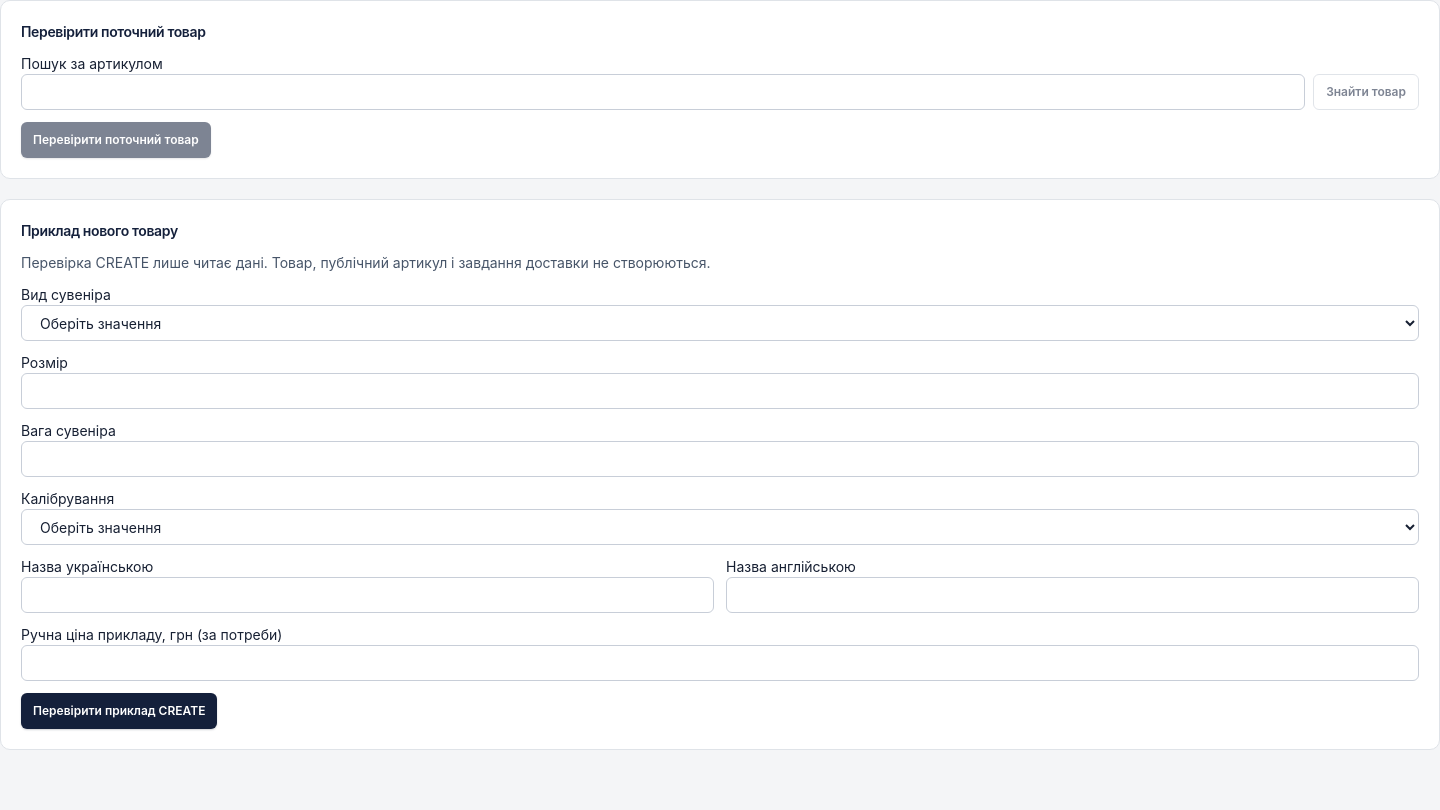
Test: keeps a blocked example scoped to that product and cannot save it for publication
Select "Фігурка" in the dropdown labelled "Вид сувеніра". click: (720, 323)
box: [21,305,1419,341]
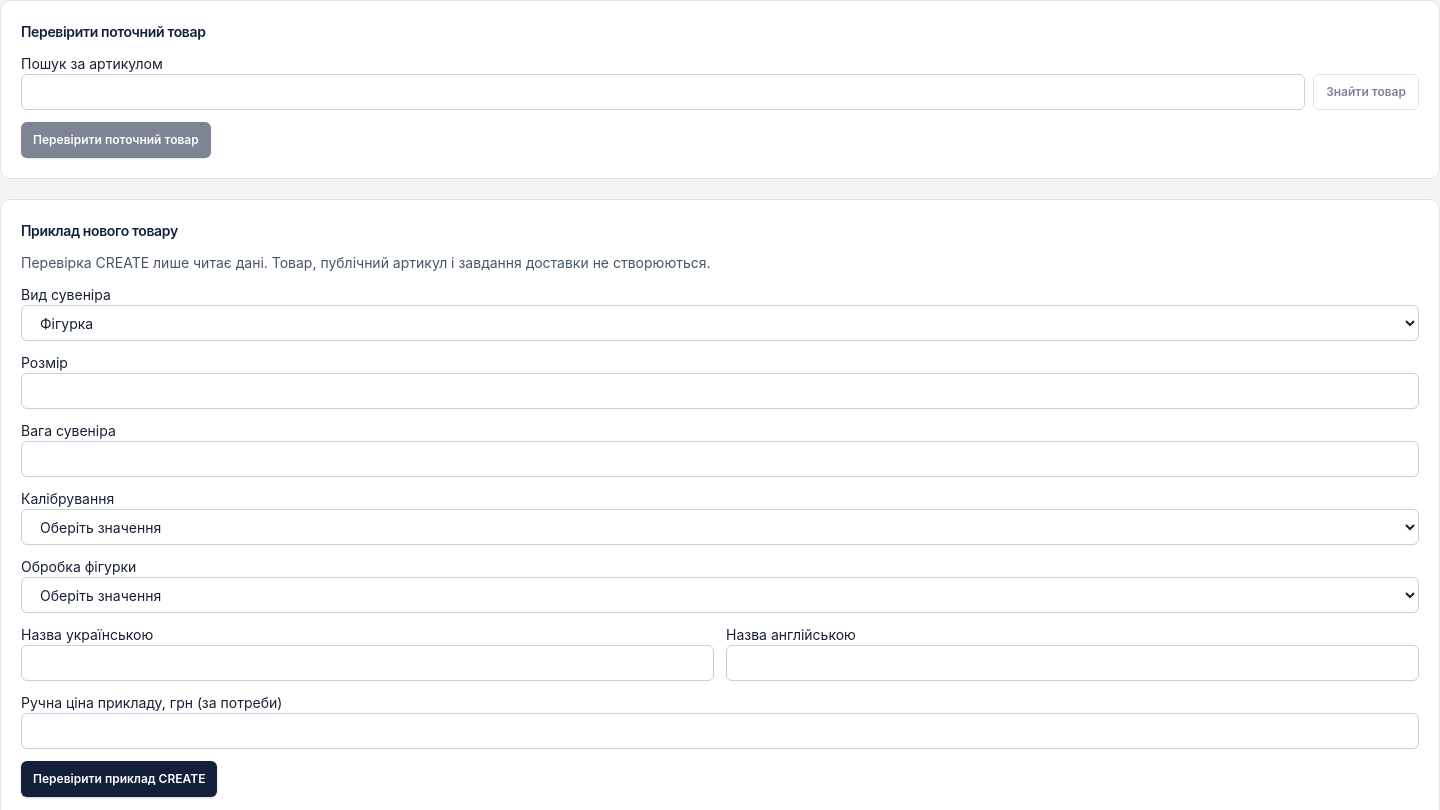
Type "3/2" into the field labelled "Розмір". click: (720, 391)
box: [21,373,1419,409]
Type "12.5" into the field labelled "Вага сувеніра". click: (720, 459)
box: [21,441,1419,477]
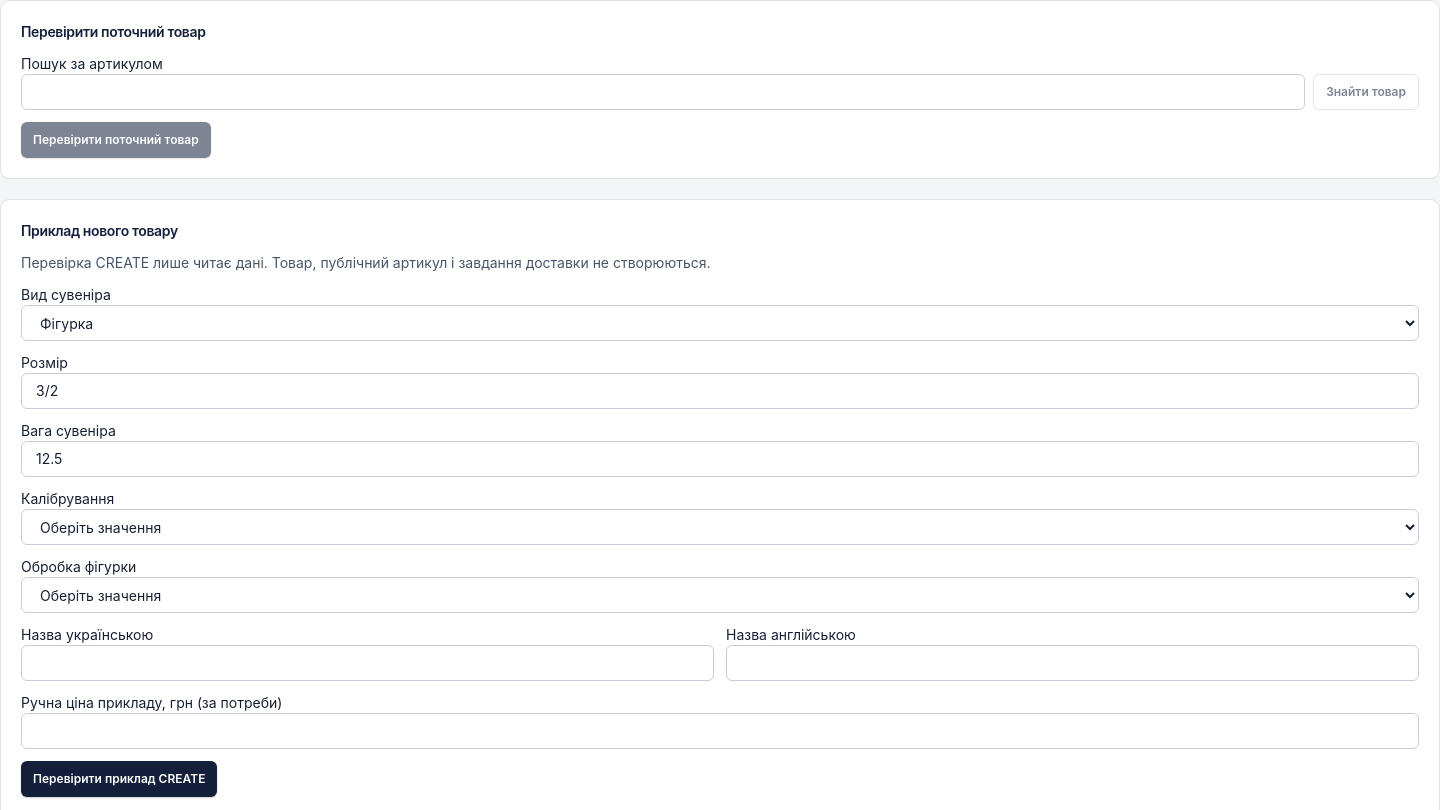
Select "Напів" in the dropdown labelled "Калібрування". click: (720, 527)
box: [21,509,1419,545]
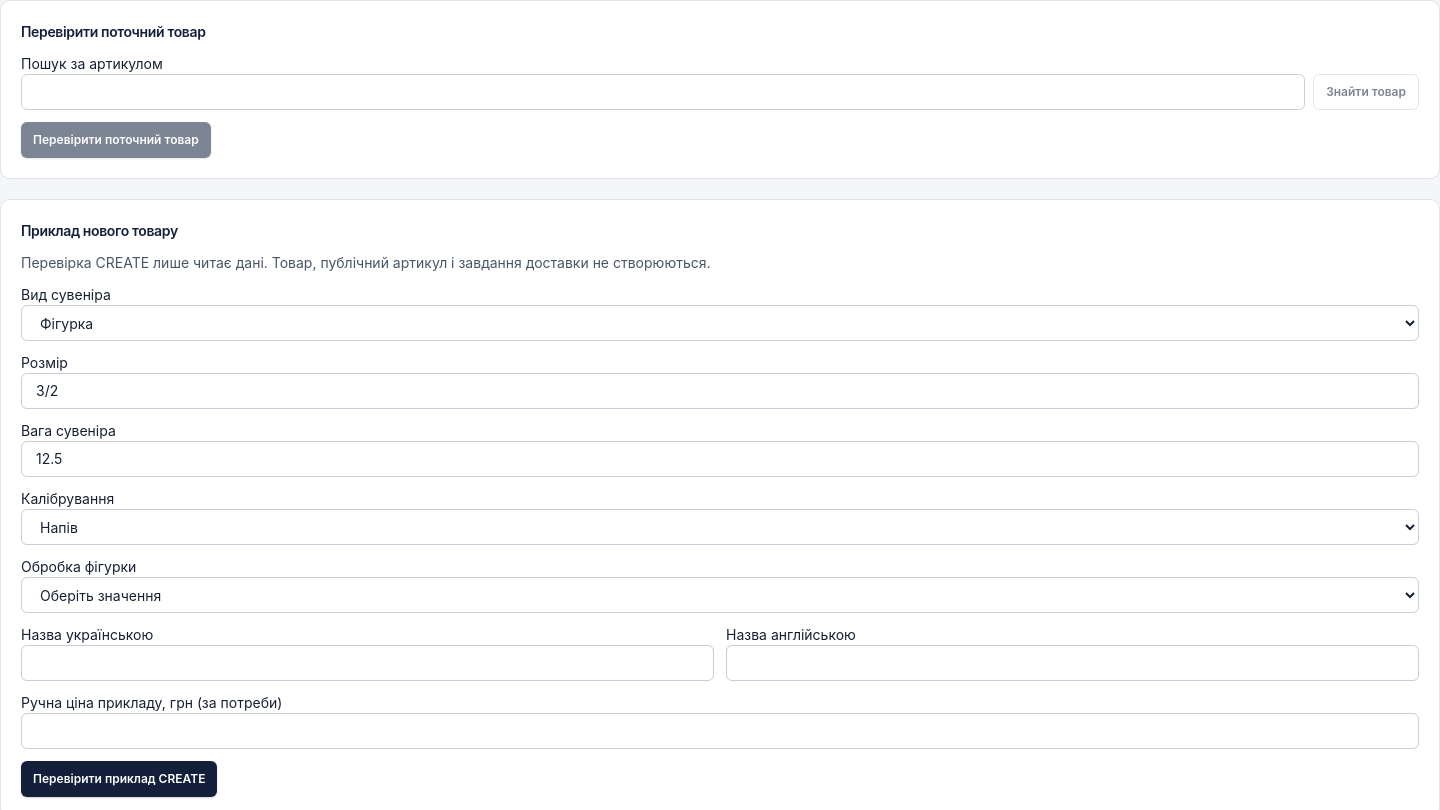
Type "Птах" into the field labelled "Назва українською". click: (368, 663)
box: [21,645,714,681]
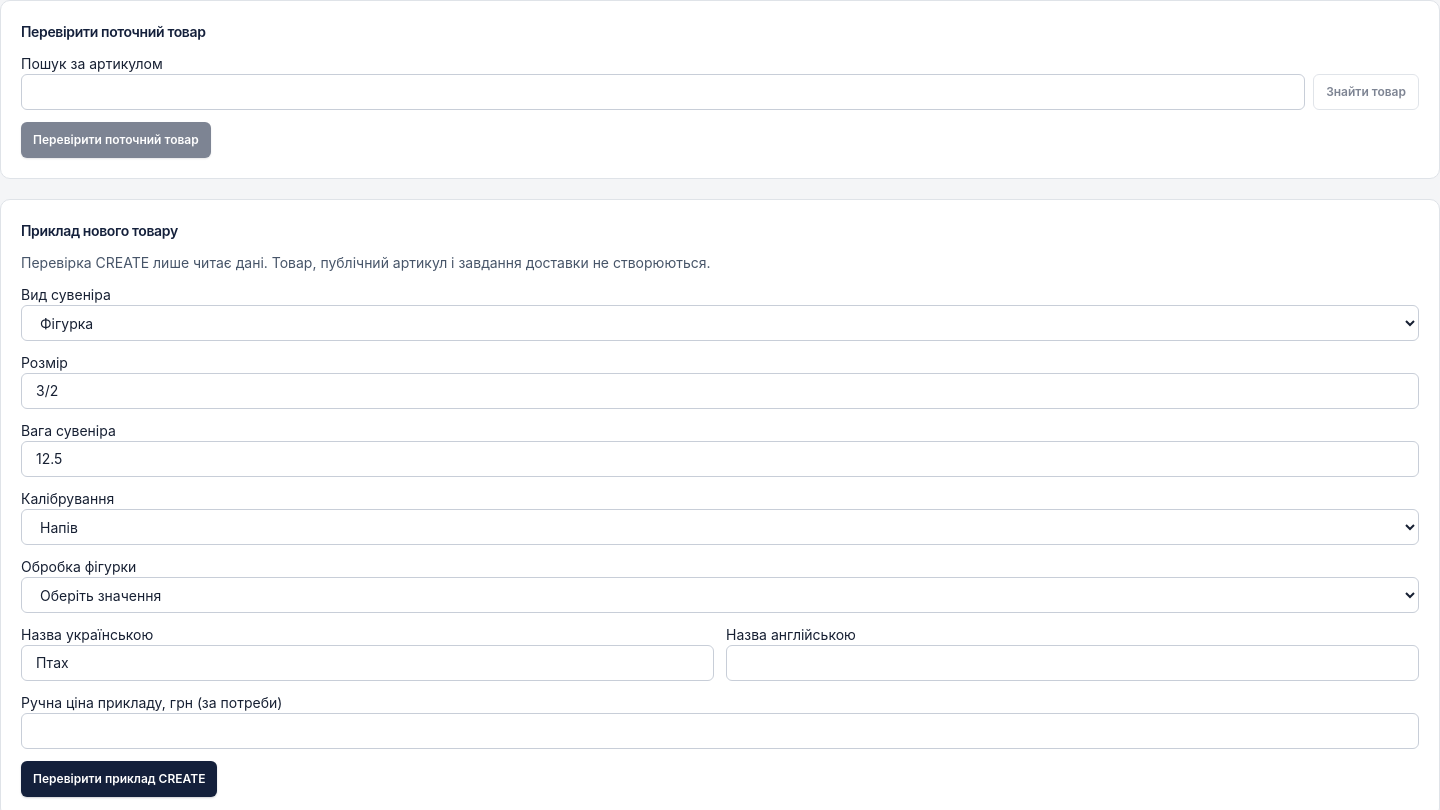
Type "bird" into the field labelled "Назва англійською". click: (1072, 663)
box: [726,645,1419,681]
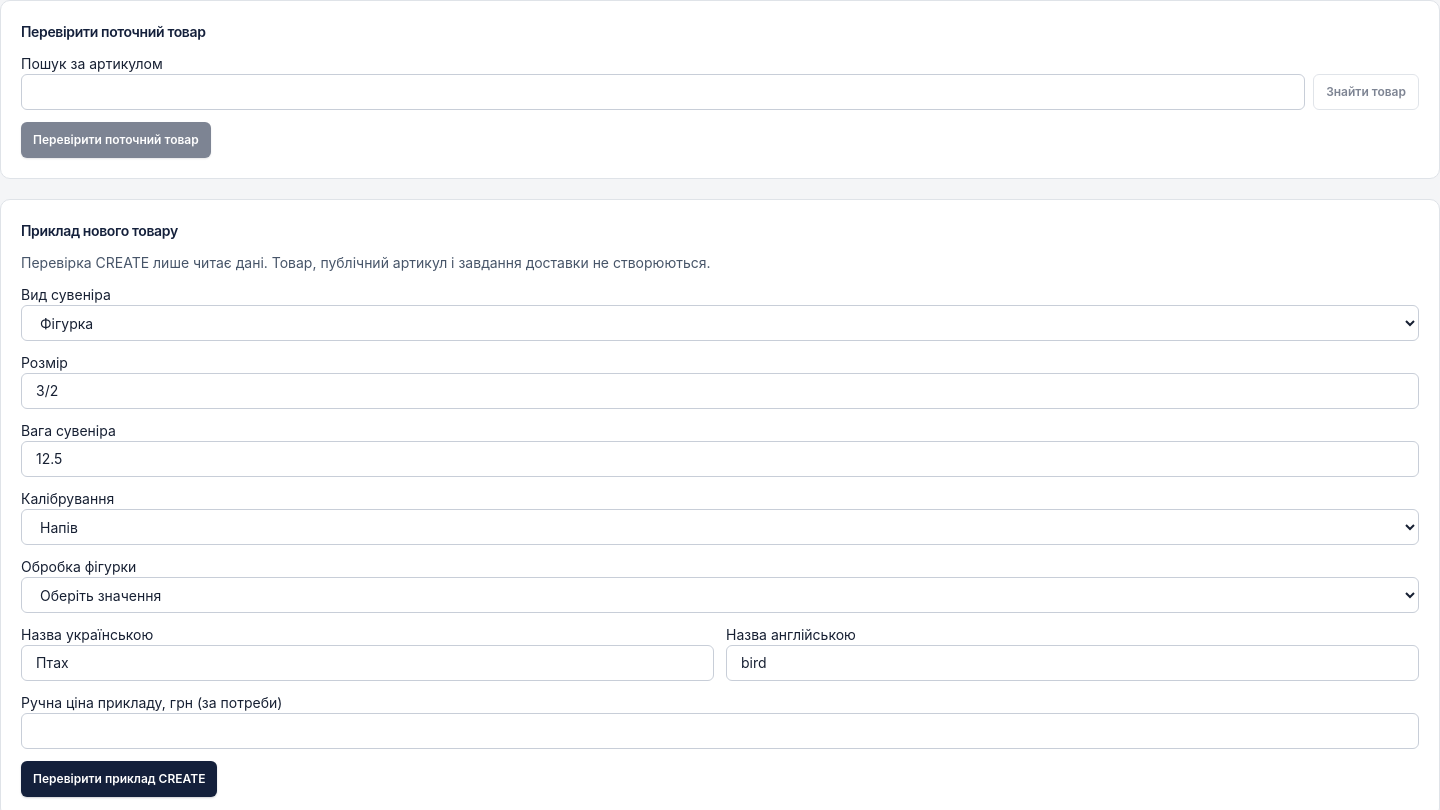
Click the button "Перевірити приклад CREATE". click: (119, 779)
box: [21,761,217,797]
(page scrolled)
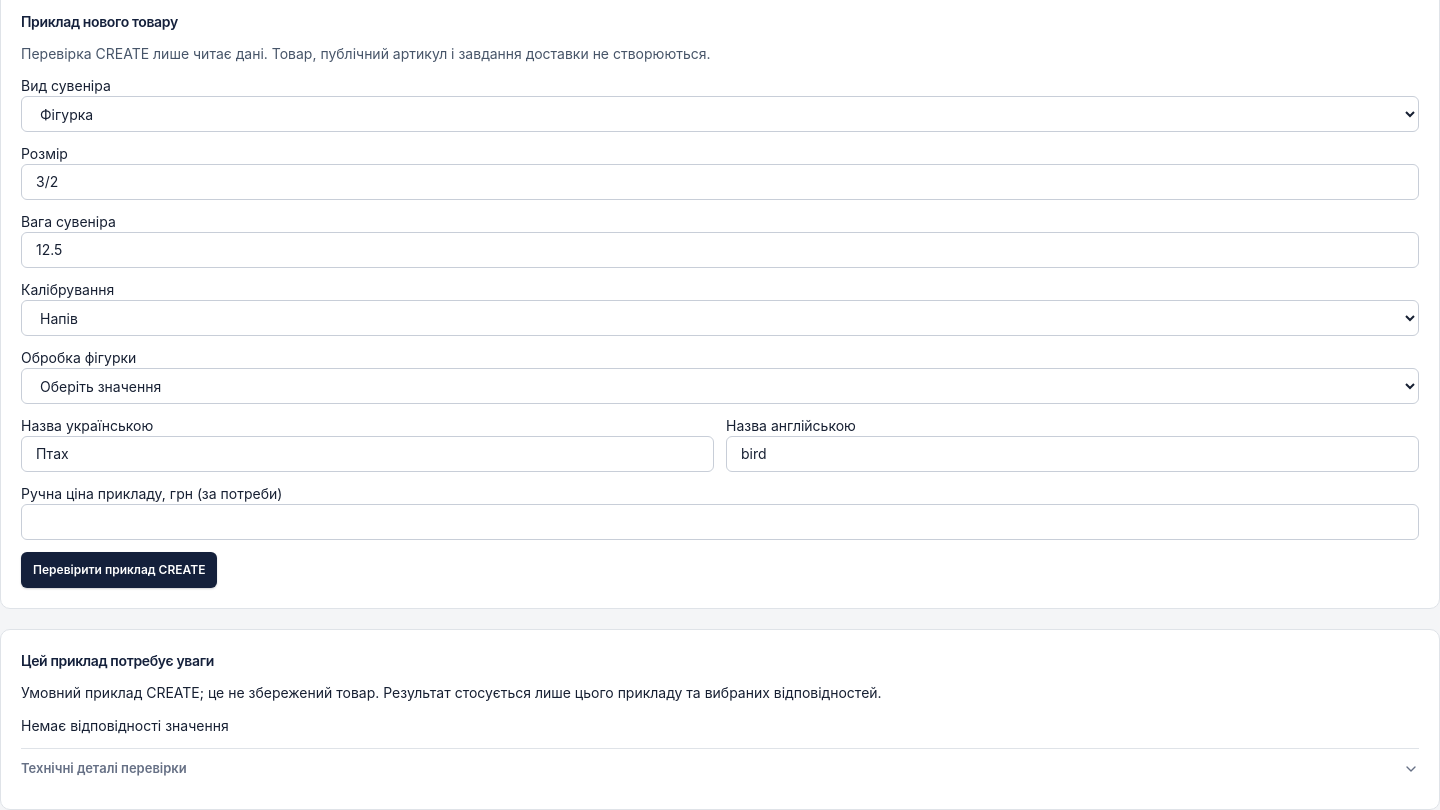
Expected: the heading "Цей приклад потребує уваги" is shown, [21,652,214,669]
Expected: the list item "Немає відповідності значення" is shown, [21,717,229,734]
